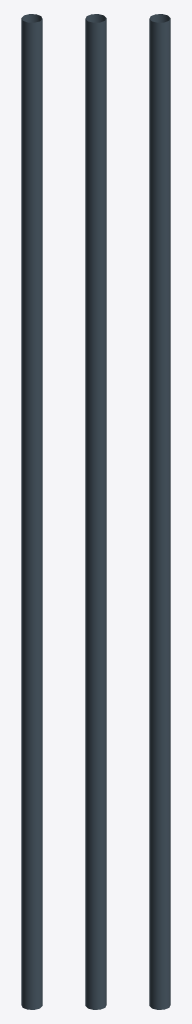
Rendered from rescue-rope.glb.
The picture shows the model from 3 angles, left to right: view 1: azimuth 30°, elevation 25°; view 2: azimuth 150°, elevation 25°; view 3: azimuth 330°, elevation 25°; orthographic projection.
Parts seen in each view (by area): view 1: rescue-rope; view 2: rescue-rope; view 3: rescue-rope.
Part boxes in pixels (left/top/right/bottom): rescue-rope: left=21, top=14, right=42, bottom=1009; rescue-rope: left=85, top=14, right=106, bottom=1009; rescue-rope: left=149, top=14, right=170, bottom=1009.
Bounding box in the file's own units: 0.044 × 2.25 × 0.0418.
